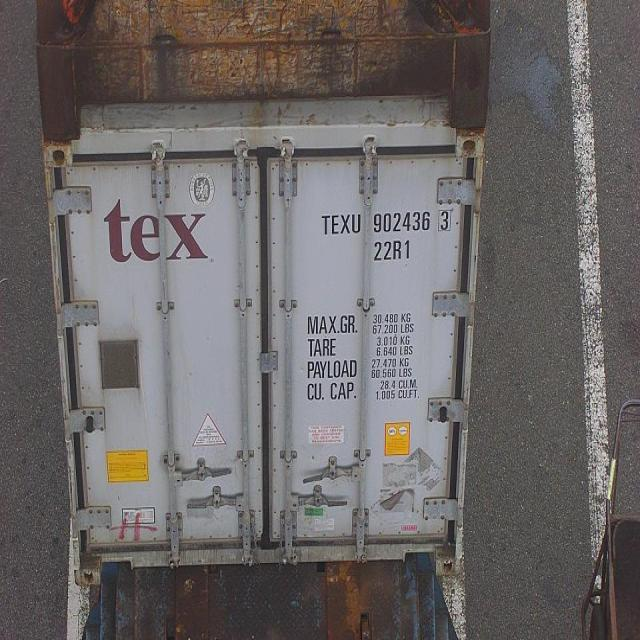ISO: (373, 240, 412, 260)
container_number: (324, 210, 451, 236)
